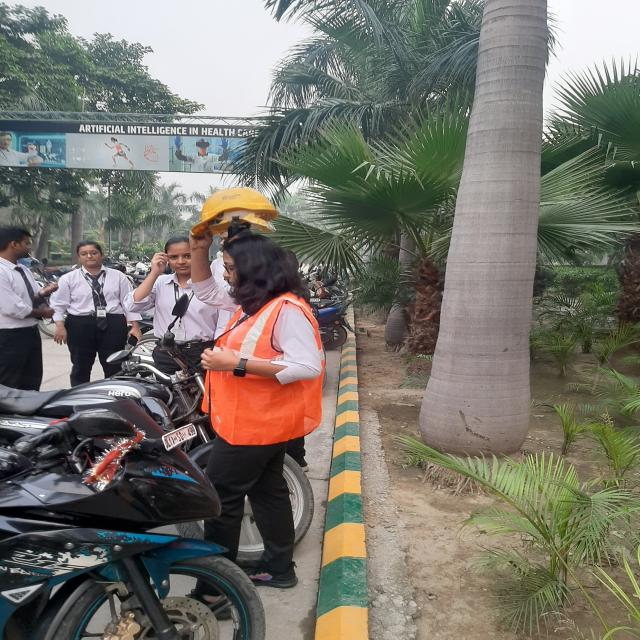safe: (181, 184, 322, 562)
unsafe: (55, 237, 139, 376), (138, 234, 213, 370), (0, 221, 52, 391)
